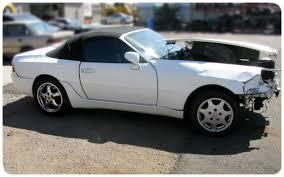Headlight-Damage: (257, 65, 281, 98)
fender-dent: (205, 65, 257, 95)
